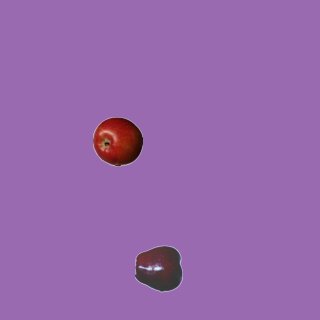Apple Braeburn: (92, 116, 142, 166)
Apple Red Delicious: (134, 243, 184, 293)
